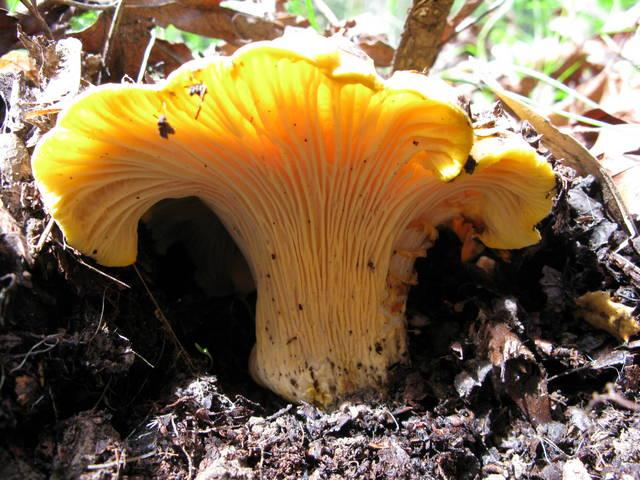Edible Mushroom: (29, 27, 559, 410)
